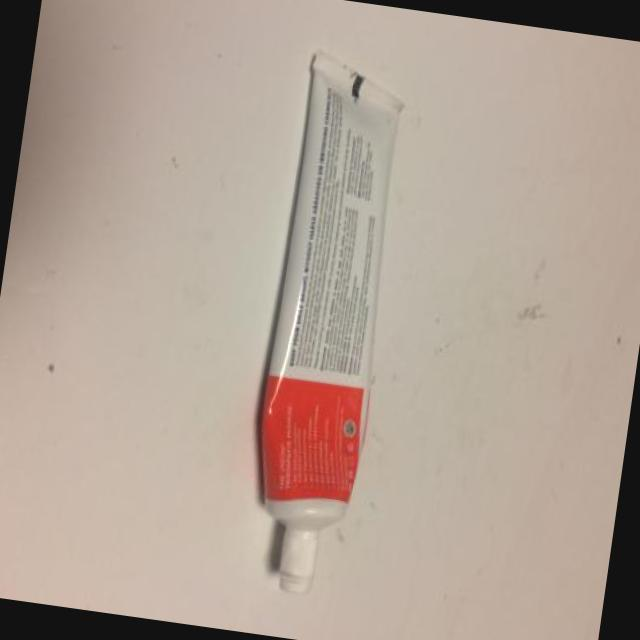nhua: (259, 55, 401, 593)
